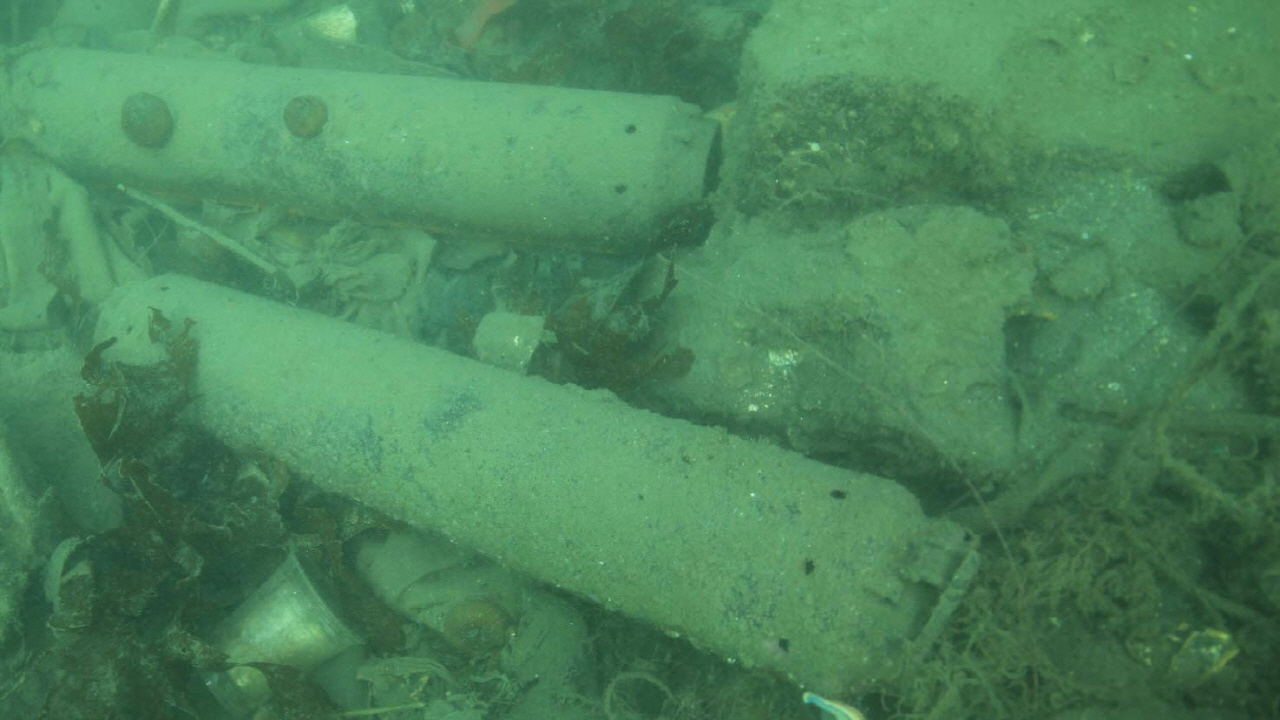eel fish trap: (93, 273, 983, 702), (12, 48, 722, 242)
